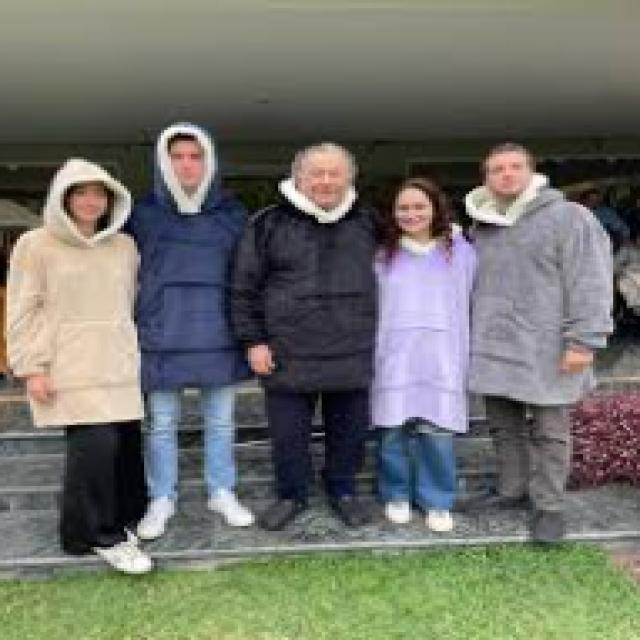4_capucha: (42, 159, 134, 247)
